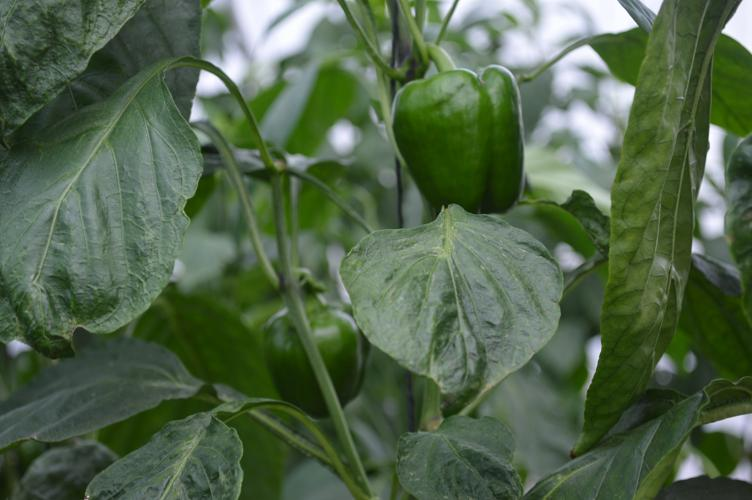BellPepper: (393, 65, 523, 213), (263, 304, 367, 421)
